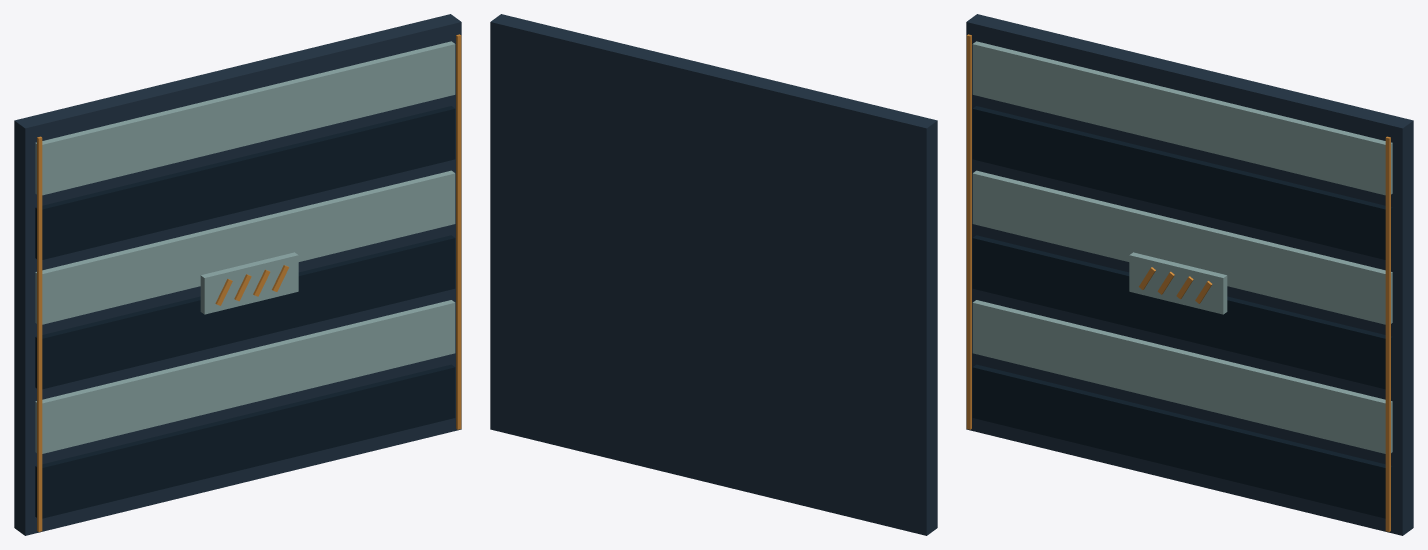
The model's file is blast-door.glb.
3 renders of one model, left to right at view 1: azimuth 30°, elevation 25°; view 2: azimuth 150°, elevation 25°; view 3: azimuth 330°, elevation 25°, orthographic.
Visible parts, largest first — view 1: Brushed titanium, Inset graphite, Ceramic graphite, Amber enamel; view 2: Ceramic graphite; view 3: Brushed titanium, Inset graphite, Ceramic graphite, Amber enamel.
Boxes of the visible parts, left/top/right/bottom form: Brushed titanium: left=35, top=41, right=455, bottom=453; Inset graphite: left=35, top=106, right=455, bottom=518; Ceramic graphite: left=14, top=14, right=461, bottom=535; Amber enamel: left=37, top=34, right=461, bottom=531; Ceramic graphite: left=490, top=14, right=937, bottom=535; Brushed titanium: left=972, top=41, right=1392, bottom=453; Inset graphite: left=972, top=106, right=1392, bottom=518; Ceramic graphite: left=966, top=14, right=1413, bottom=535; Amber enamel: left=966, top=34, right=1390, bottom=531.
Bounding box in the file's own units: 6.5 × 5.8 × 0.5275.
